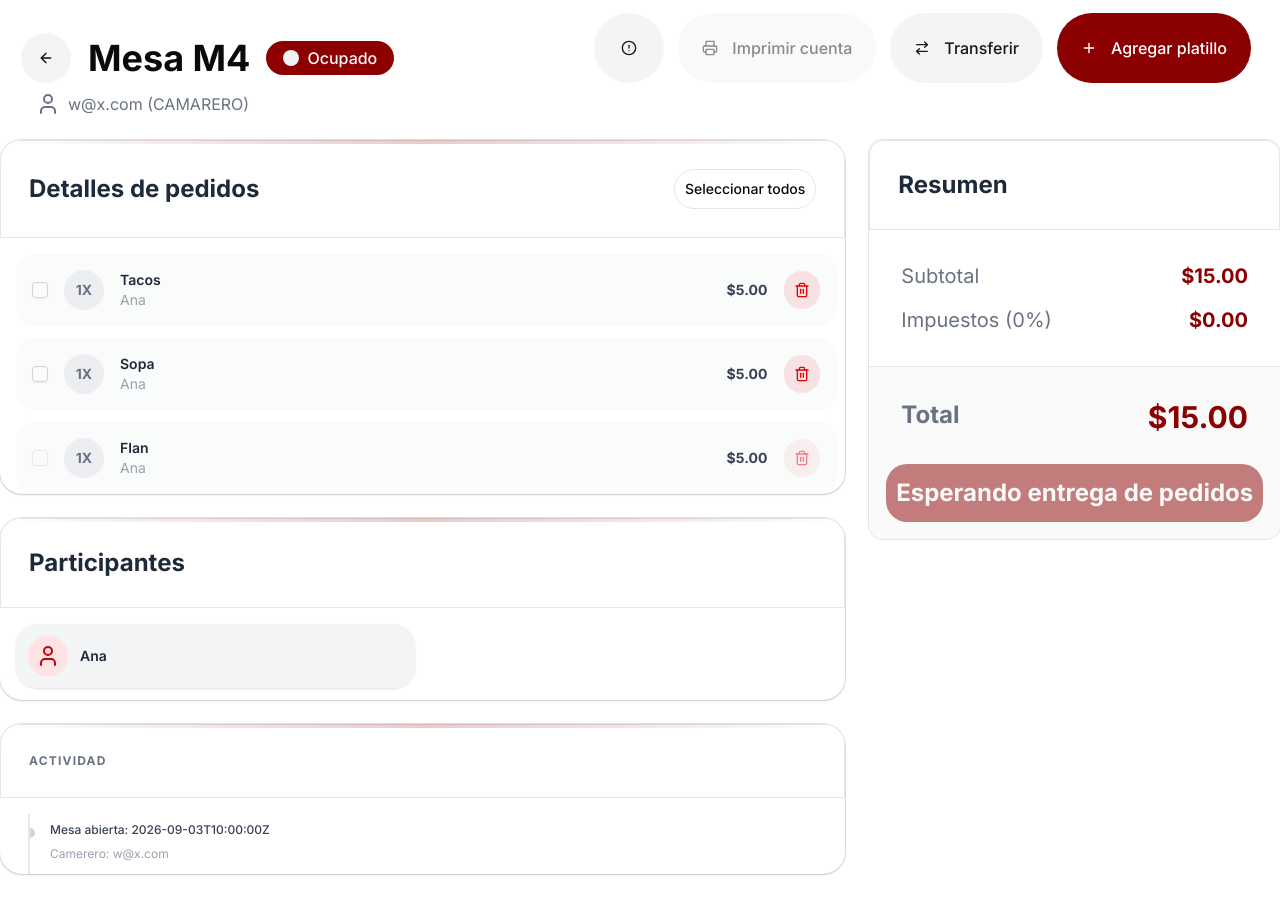
it: TableInformation — select all + bulk delete › items can also be picked one by one
Click the checkbox named "Seleccionar Sopa" at (40, 374), box [32,366,48,382]
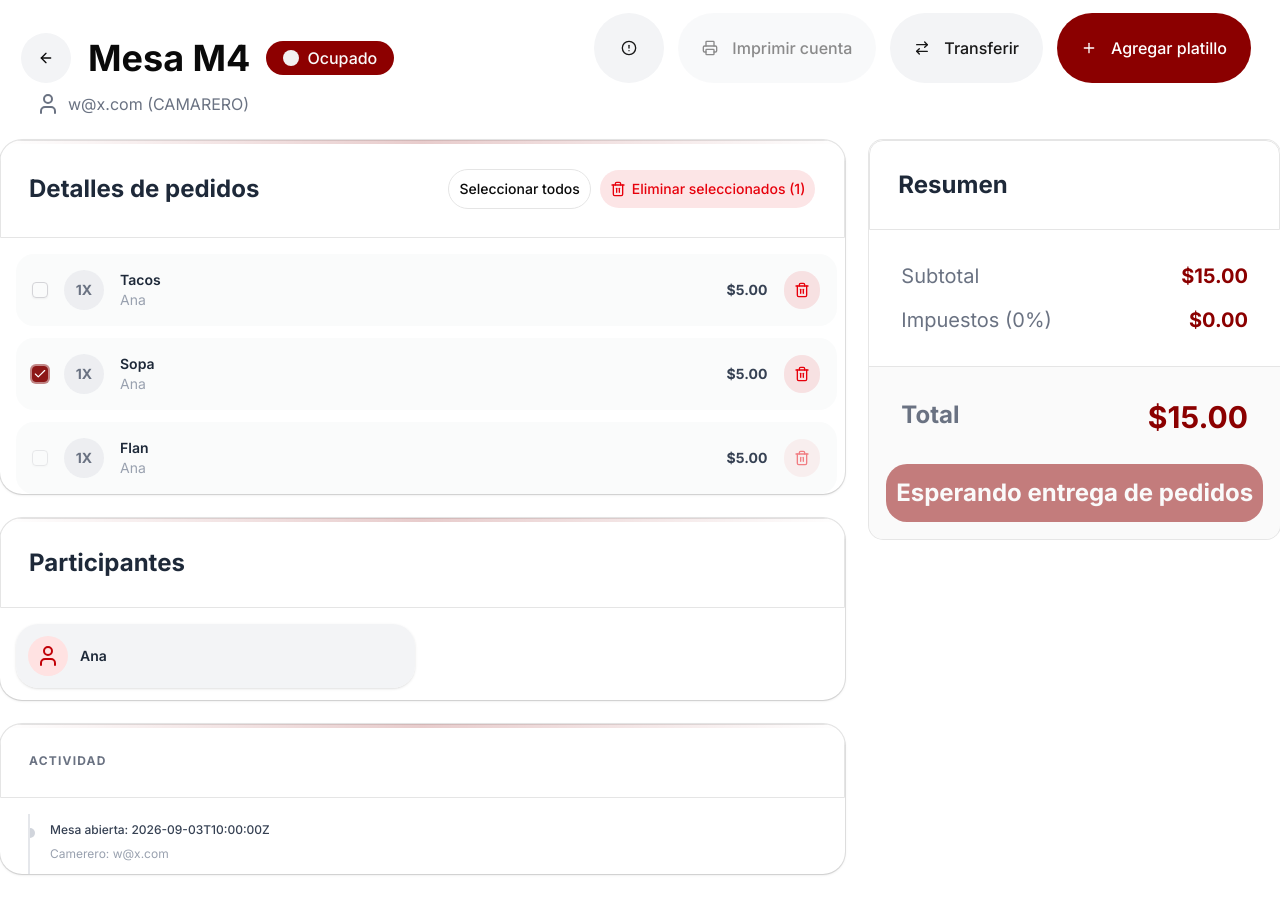
Expected: the button "Seleccionar todos" is shown, [448,169,591,209]
Result: the button "Eliminar seleccionados (1)" is shown at [599,169,816,209]
